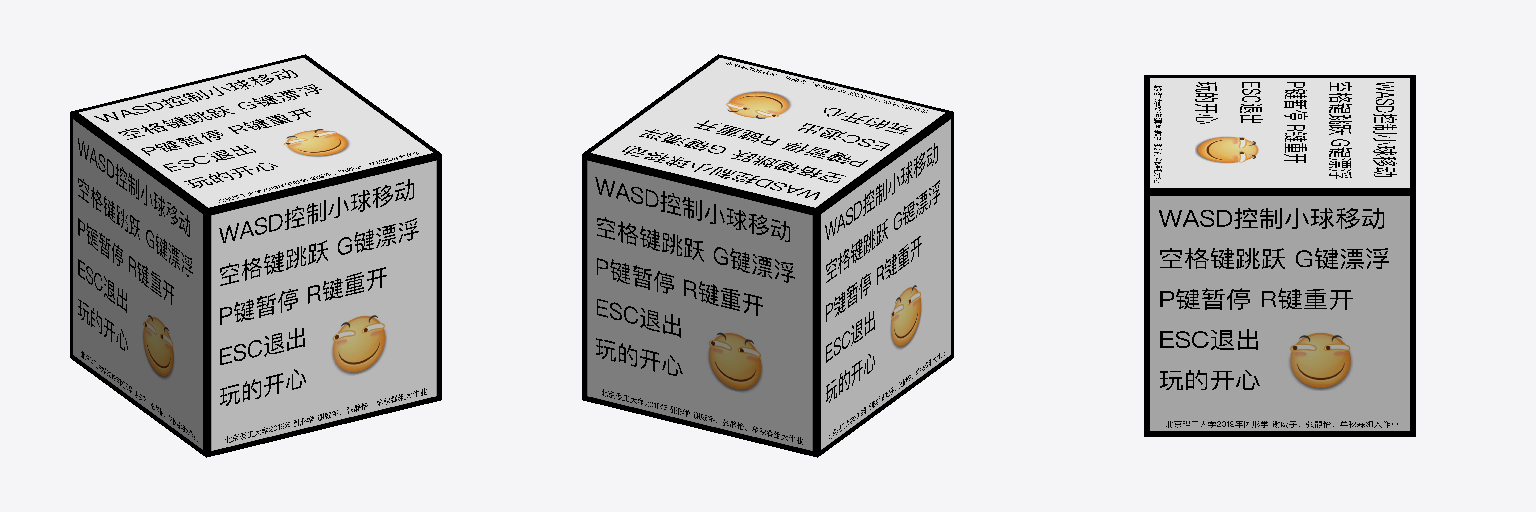
3 renders of one model, left to right at view 1: azimuth 30°, elevation 25°; view 2: azimuth 150°, elevation 25°; view 3: azimuth 270°, elevation 25°, orthographic.
Visible parts, largest first — view 1: 立方体.1; view 2: 立方体.1; view 3: 立方体.1.
Boxes of the visible parts, <box> form: 立方体.1: <box>70,54,441,457</box>; 立方体.1: <box>582,54,953,457</box>; 立方体.1: <box>1144,75,1415,436</box>.
Size of the model in its own units: 2 by 2 by 2.
1 materials, 1 textured.